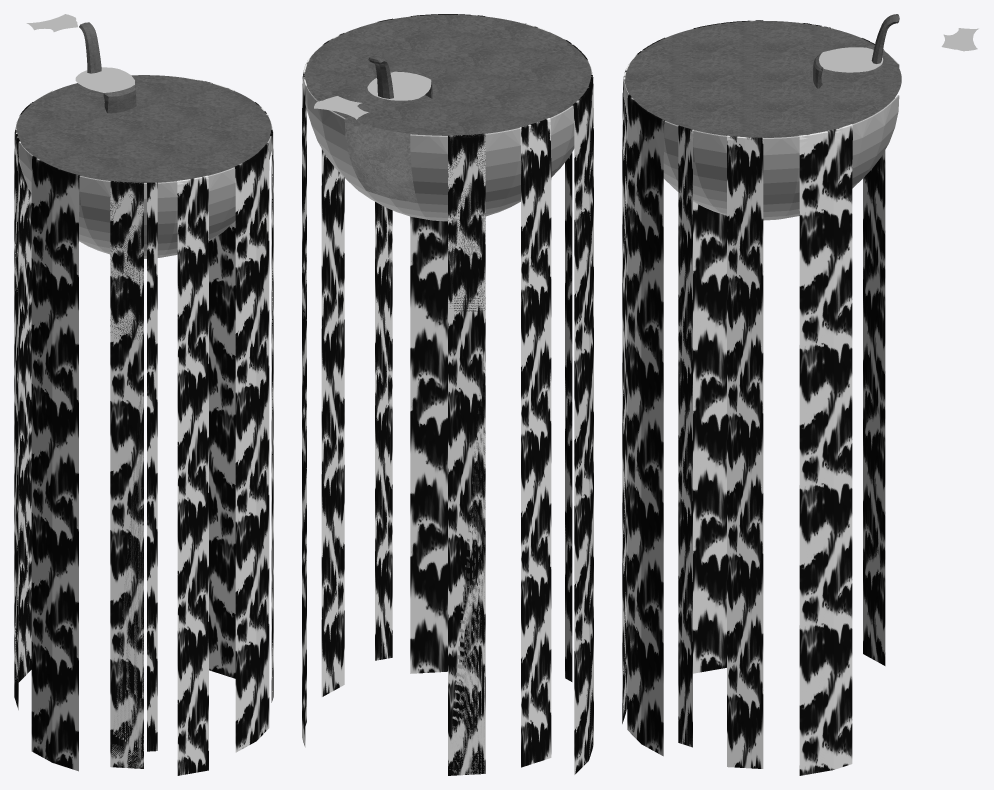
Rendered from HeavenlyBeachPlanetWater_bake.dae.
The picture shows the model from 3 angles, left to right: view 1: azimuth 30°, elevation 25°; view 2: azimuth 150°, elevation 25°; view 3: azimuth 270°, elevation 25°; orthographic projection. The views are drawn at different scales.
Parts seen in each view (by area): view 1: m0, m1, m2, m4, m3, m1_VC, m6, m7; view 2: m0, m2, m1, m4, m3, m1_VC, m5, m6, m7; view 3: m0, m1, m2, m4, m3, m6, m7.
Boxes of the visible parts, box(x1,y1,x2,y2) form: m0: box(14, 78, 273, 775); m1: box(14, 78, 273, 774); m2: box(16, 75, 271, 182); m4: box(15, 75, 272, 258); m3: box(17, 75, 270, 182); m1_VC: box(22, 102, 143, 767); m6: box(26, 14, 134, 92); m7: box(79, 22, 136, 113); m0: box(302, 14, 593, 775); m2: box(305, 14, 591, 135); m1: box(302, 14, 593, 773); m4: box(305, 35, 592, 221); m3: box(305, 15, 590, 135); m1_VC: box(448, 45, 581, 774); m5: box(339, 115, 425, 203); m6: box(314, 71, 431, 119); m7: box(368, 56, 432, 98); m0: box(622, 20, 885, 775); m1: box(622, 20, 885, 768); m2: box(624, 21, 901, 137); m4: box(623, 50, 899, 220); m3: box(625, 21, 901, 137); m6: box(819, 28, 978, 72); m7: box(813, 14, 899, 88).
Bounding box in the file's own units: 14634 × 40769 × 18548.
